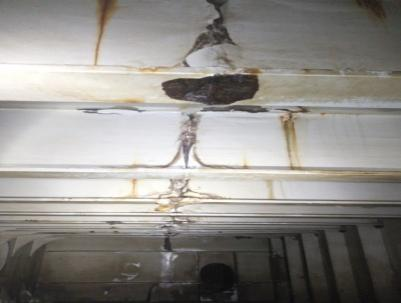corrosion: (155, 72, 275, 108), (188, 0, 241, 53), (174, 107, 211, 166), (84, 2, 119, 59), (148, 200, 191, 234), (280, 114, 302, 169), (161, 176, 211, 197), (349, 0, 392, 22), (256, 181, 284, 201), (126, 176, 143, 195)
